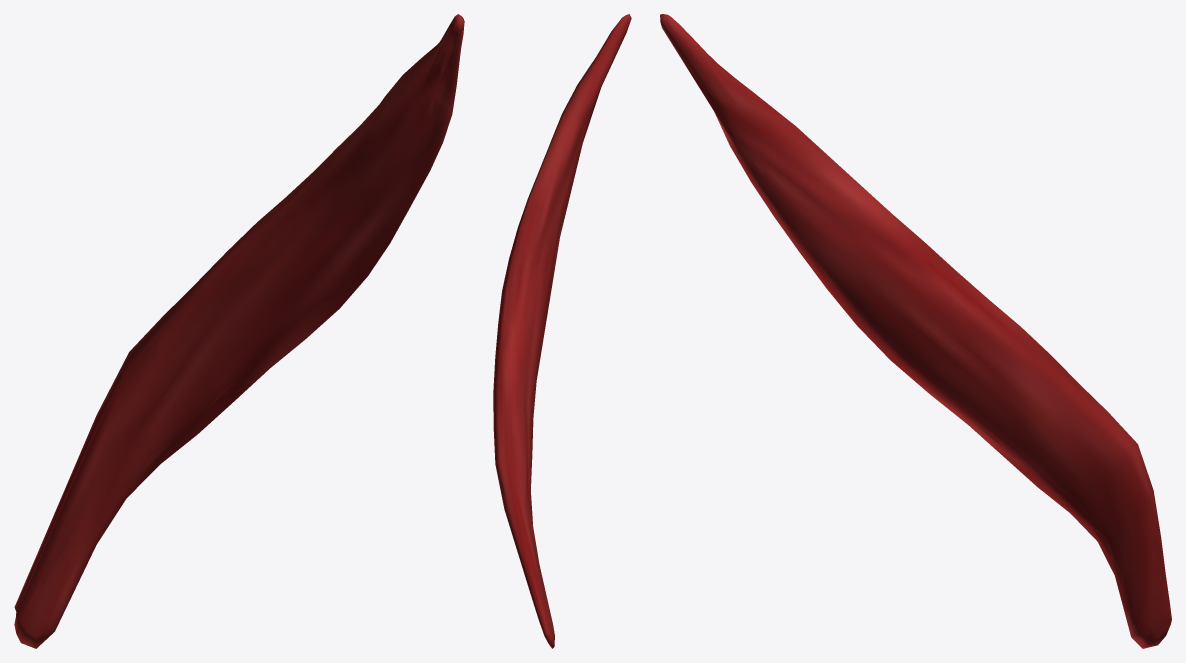
The model's file is R Triceps brachii caput mediale.fbx.
3 renders of one model, left to right at view 1: azimuth 30°, elevation 25°; view 2: azimuth 150°, elevation 25°; view 3: azimuth 270°, elevation 25°, orthographic. The views are drawn at different scales.
Parts seen in each view (by area): view 1: R Triceps brachii caput mediale low, R Triceps brachii caput mediale, R Triceps brachii caput mediale high; view 2: R Triceps brachii caput mediale low, R Triceps brachii caput mediale, R Triceps brachii caput mediale high; view 3: R Triceps brachii caput mediale, R Triceps brachii caput mediale low, R Triceps brachii caput mediale high.
Boxes of the visible parts, left/top/right/bottom form: R Triceps brachii caput mediale low: left=14, top=15, right=464, bottom=635; R Triceps brachii caput mediale: left=14, top=14, right=464, bottom=648; R Triceps brachii caput mediale high: left=16, top=18, right=458, bottom=632; R Triceps brachii caput mediale low: left=493, top=37, right=622, bottom=647; R Triceps brachii caput mediale: left=493, top=14, right=631, bottom=648; R Triceps brachii caput mediale high: left=497, top=38, right=621, bottom=640; R Triceps brachii caput mediale: left=660, top=14, right=1171, bottom=648; R Triceps brachii caput mediale low: left=660, top=14, right=1156, bottom=647; R Triceps brachii caput mediale high: left=667, top=30, right=1167, bottom=625.
Size of the model in its own units: 1.24 by 4.55 by 3.02.
